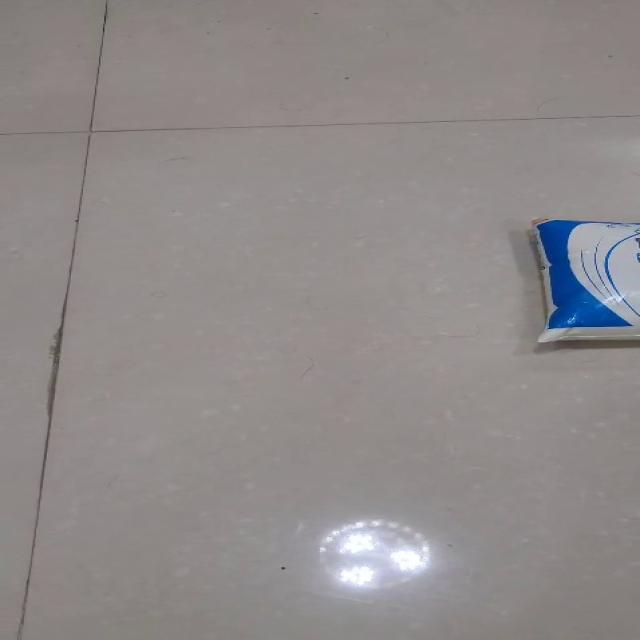plastic: (529, 216, 639, 343)
